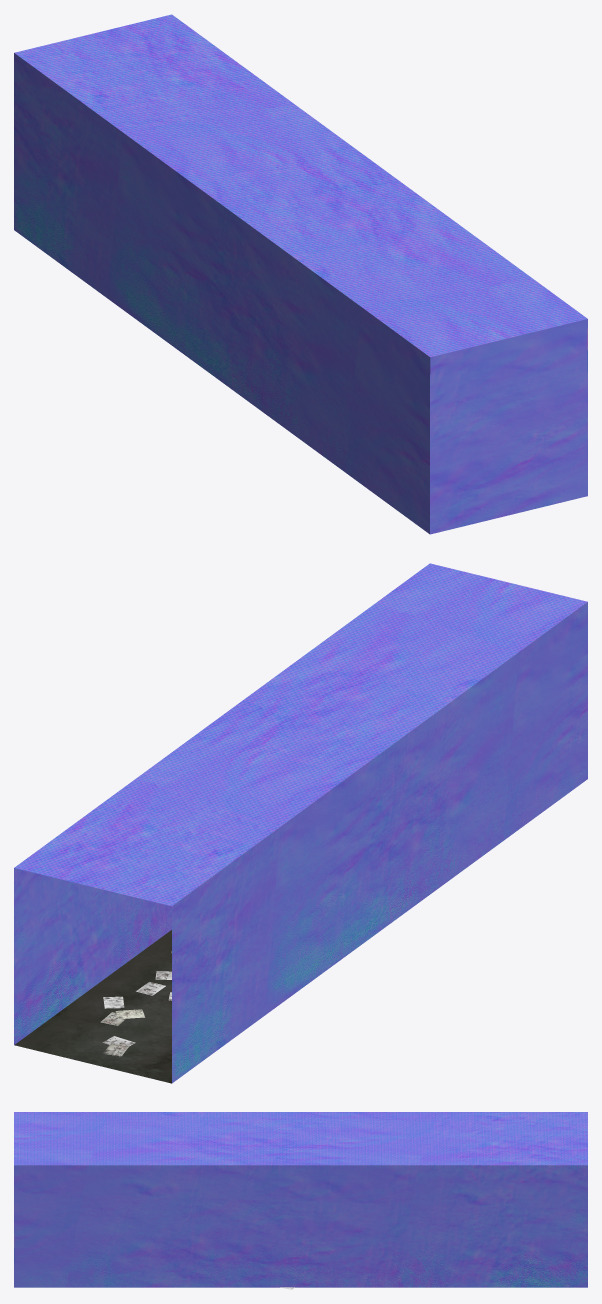
Rendered from climb.fbx.
The picture shows the model from 3 angles, top to bottom: view 1: azimuth 30°, elevation 25°; view 2: azimuth 150°, elevation 25°; view 3: azimuth 270°, elevation 25°; orthographic projection. The views are drawn at different scales.
Parts seen in each view (by area): view 1: hall; view 2: hall, hall_001; view 3: hall.
Part boxes in pixels (<box>): hall: <box>14,14,587,534</box>; hall: <box>14,563,587,1083</box>; hall_001: <box>14,930,171,1083</box>; hall: <box>14,1112,587,1287</box>.
Bounding box in the file's own units: 254 × 260 × 1107.
7 materials, 7 textured.
